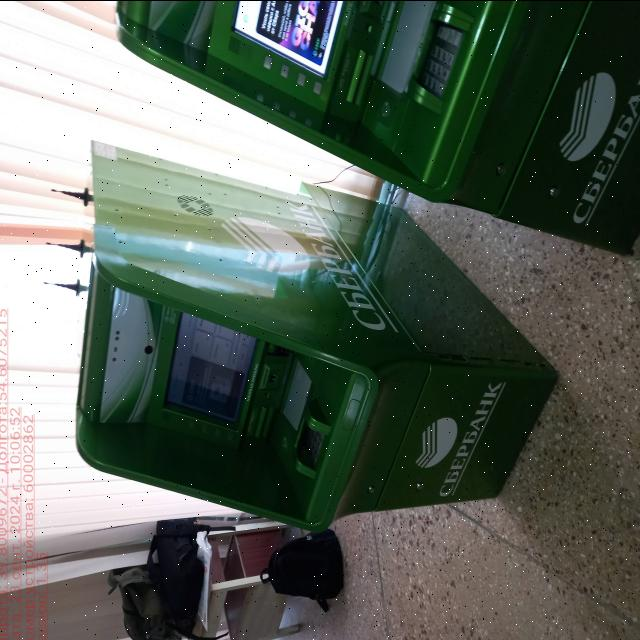bank: (76, 139, 562, 522), (117, 0, 639, 257)
